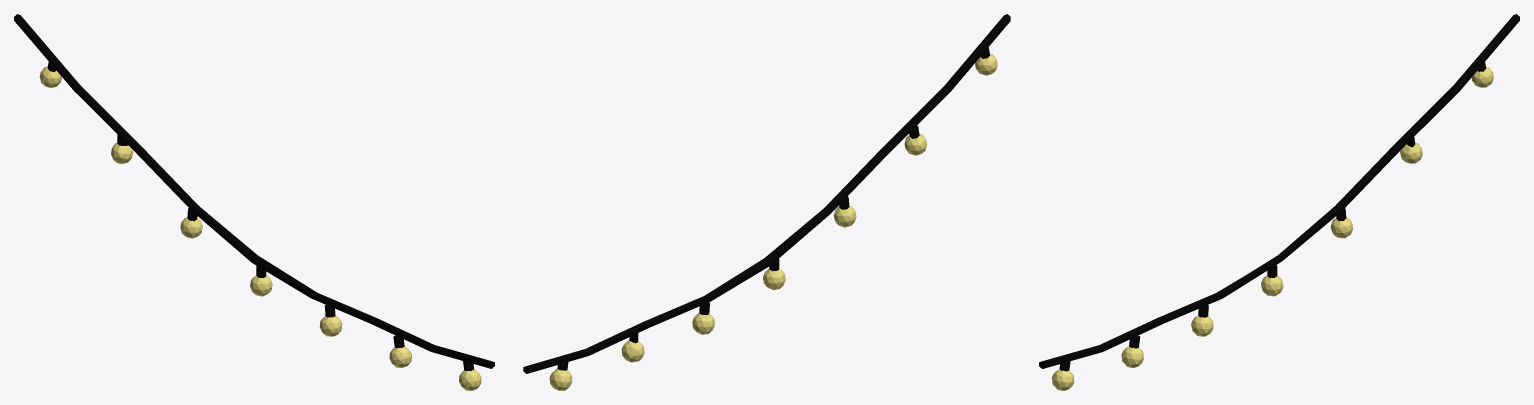
The model's file is lampeczki niekolor.fbx.
3 renders of one model, left to right at view 1: azimuth 30°, elevation 25°; view 2: azimuth 150°, elevation 25°; view 3: azimuth 330°, elevation 25°, orthographic.
Parts seen in each view (by area): view 1: lampeczki niekolor; view 2: lampeczki niekolor; view 3: lampeczki niekolor.
Part boxes in pixels (box(x1,y1,x2,y2)): lampeczki niekolor: box(14, 14, 494, 390); lampeczki niekolor: box(523, 14, 1010, 390); lampeczki niekolor: box(1039, 14, 1519, 390).
Bounding box in the file's own units: 38.5 × 198 × 1657.
